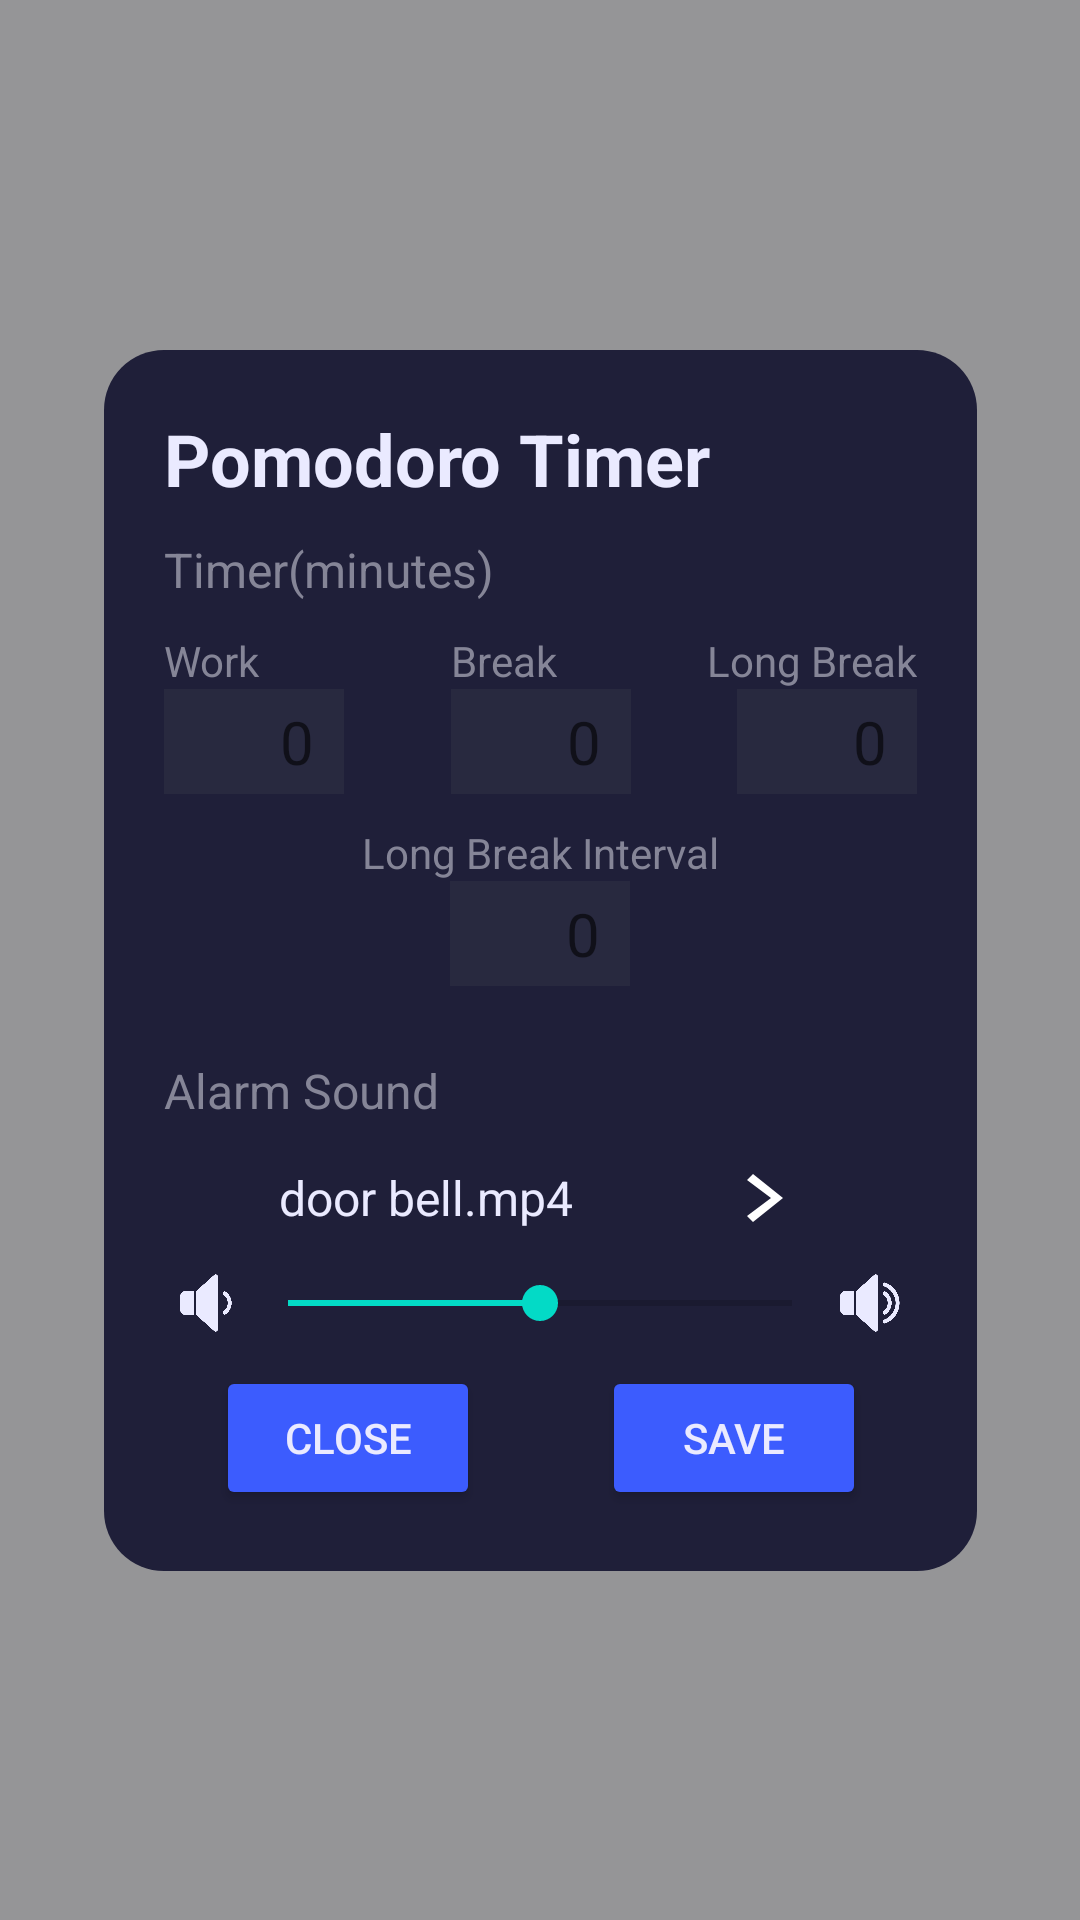

Icon click points for this 1080px×1920px phone screenshot, format [x,y]:
aa arrow right: [765,1198]
aa audio low: [206,1303]
aa audio max: [870,1303]
